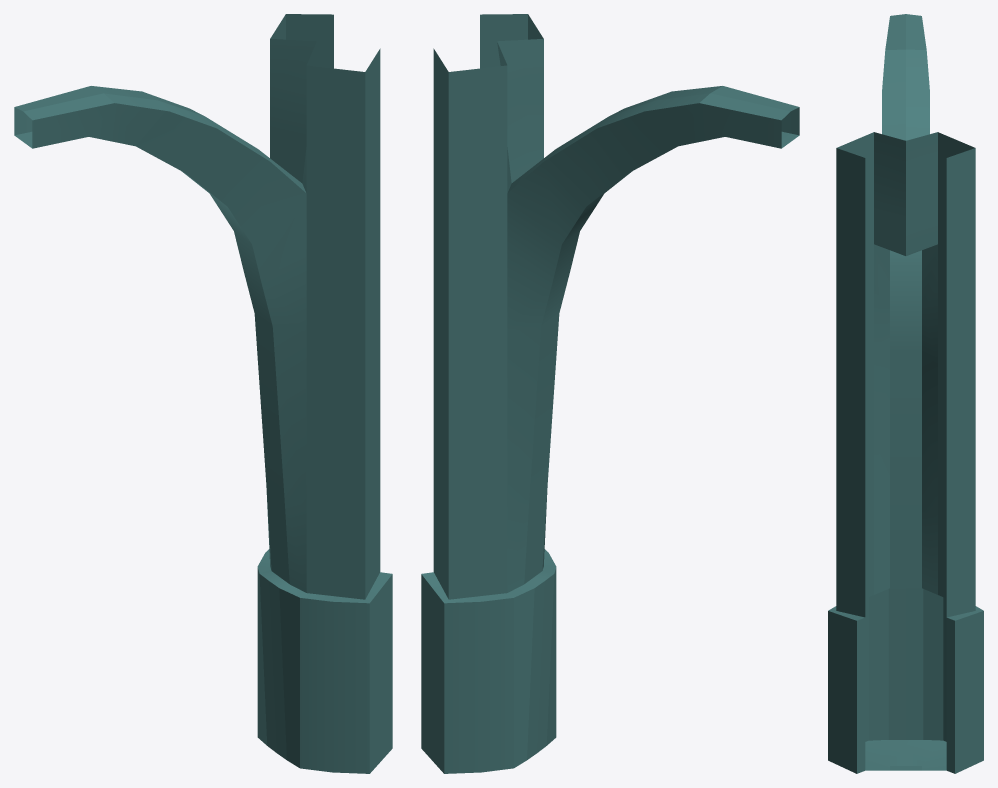
The model's file is Arch_Single.fbx.
3 views of the same model, side by side, from view 1: azimuth 30°, elevation 25°; view 2: azimuth 150°, elevation 25°; view 3: azimuth 270°, elevation 25° (orthographic). The views are drawn at different scales.
Parts seen in each view (by area): view 1: Arch_Single; view 2: Arch_Single; view 3: Arch_Single.
Part boxes in pixels (box(x1,y1,x2,y2)): Arch_Single: box(14, 14, 392, 773); Arch_Single: box(421, 14, 799, 773); Arch_Single: box(828, 14, 983, 773).
Bounding box in the file's own units: 205 × 403 × 92.24.
